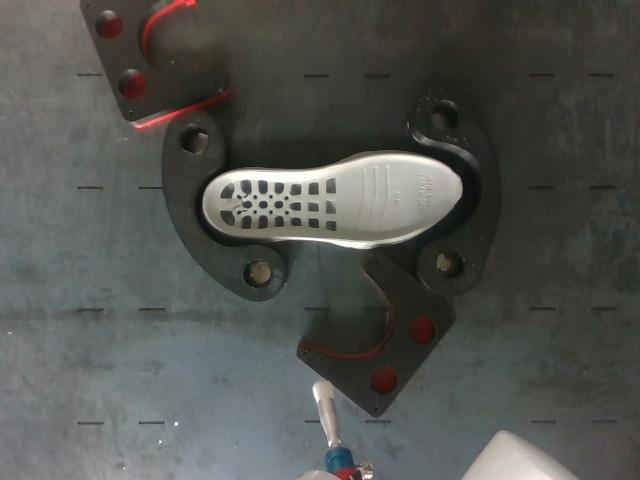shoes: (204, 156, 461, 241)
